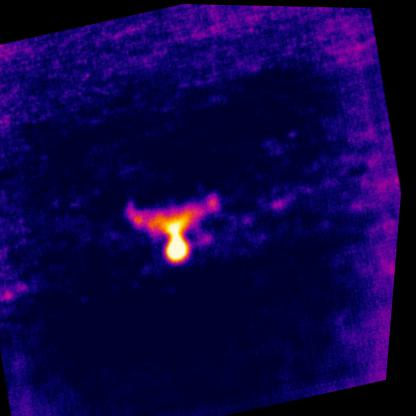drone: (120, 178, 235, 273)
